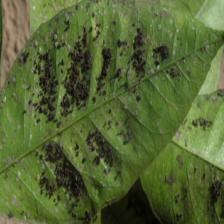Melanose: (17, 19, 198, 194)
